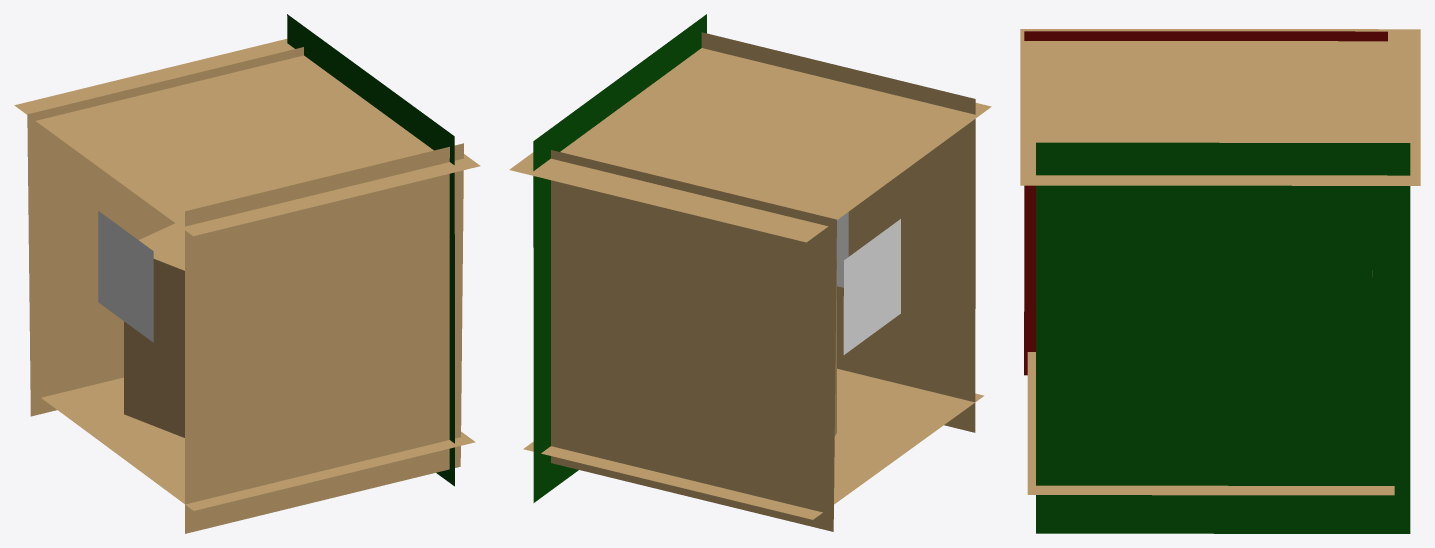
Rendered from flower.obj.
3 renders of one model, left to right at view 1: azimuth 30°, elevation 25°; view 2: azimuth 150°, elevation 25°; view 3: azimuth 270°, elevation 25°, orthographic. The views are drawn at different scales.
Visible parts, largest first — view 1: back_wall, ceiling, back_wall.001, floor, tall_box, right_wall, area_light.002; view 2: back_wall.001, ceiling, back_wall, floor, right_wall, area_light.002, area_light.001; view 3: right_wall, ceiling, left_wall, floor.
Part boxes in pixels (<box>): back_wall: <box>185,143,463,533</box>; ceiling: <box>14,39,480,236</box>; back_wall.001: <box>27,47,303,416</box>; floor: <box>41,377,475,510</box>; tall_box: <box>124,223,184,437</box>; right_wall: <box>287,14,454,486</box>; area_light.002: <box>98,211,153,342</box>; back_wall.001: <box>551,150,836,531</box>; ceiling: <box>509,48,991,242</box>; back_wall: <box>701,32,975,432</box>; floor: <box>523,368,984,519</box>; right_wall: <box>533,14,706,502</box>; area_light.002: <box>843,219,900,354</box>; area_light.001: <box>836,212,848,287</box>; right_wall: <box>1036,142,1410,533</box>; ceiling: <box>1020,29,1420,185</box>; left_wall: <box>1024,31,1387,375</box>; floor: <box>1027,352,1394,495</box>.
Bounding box in the file's own units: 6.11 × 6.92 × 6.41.
